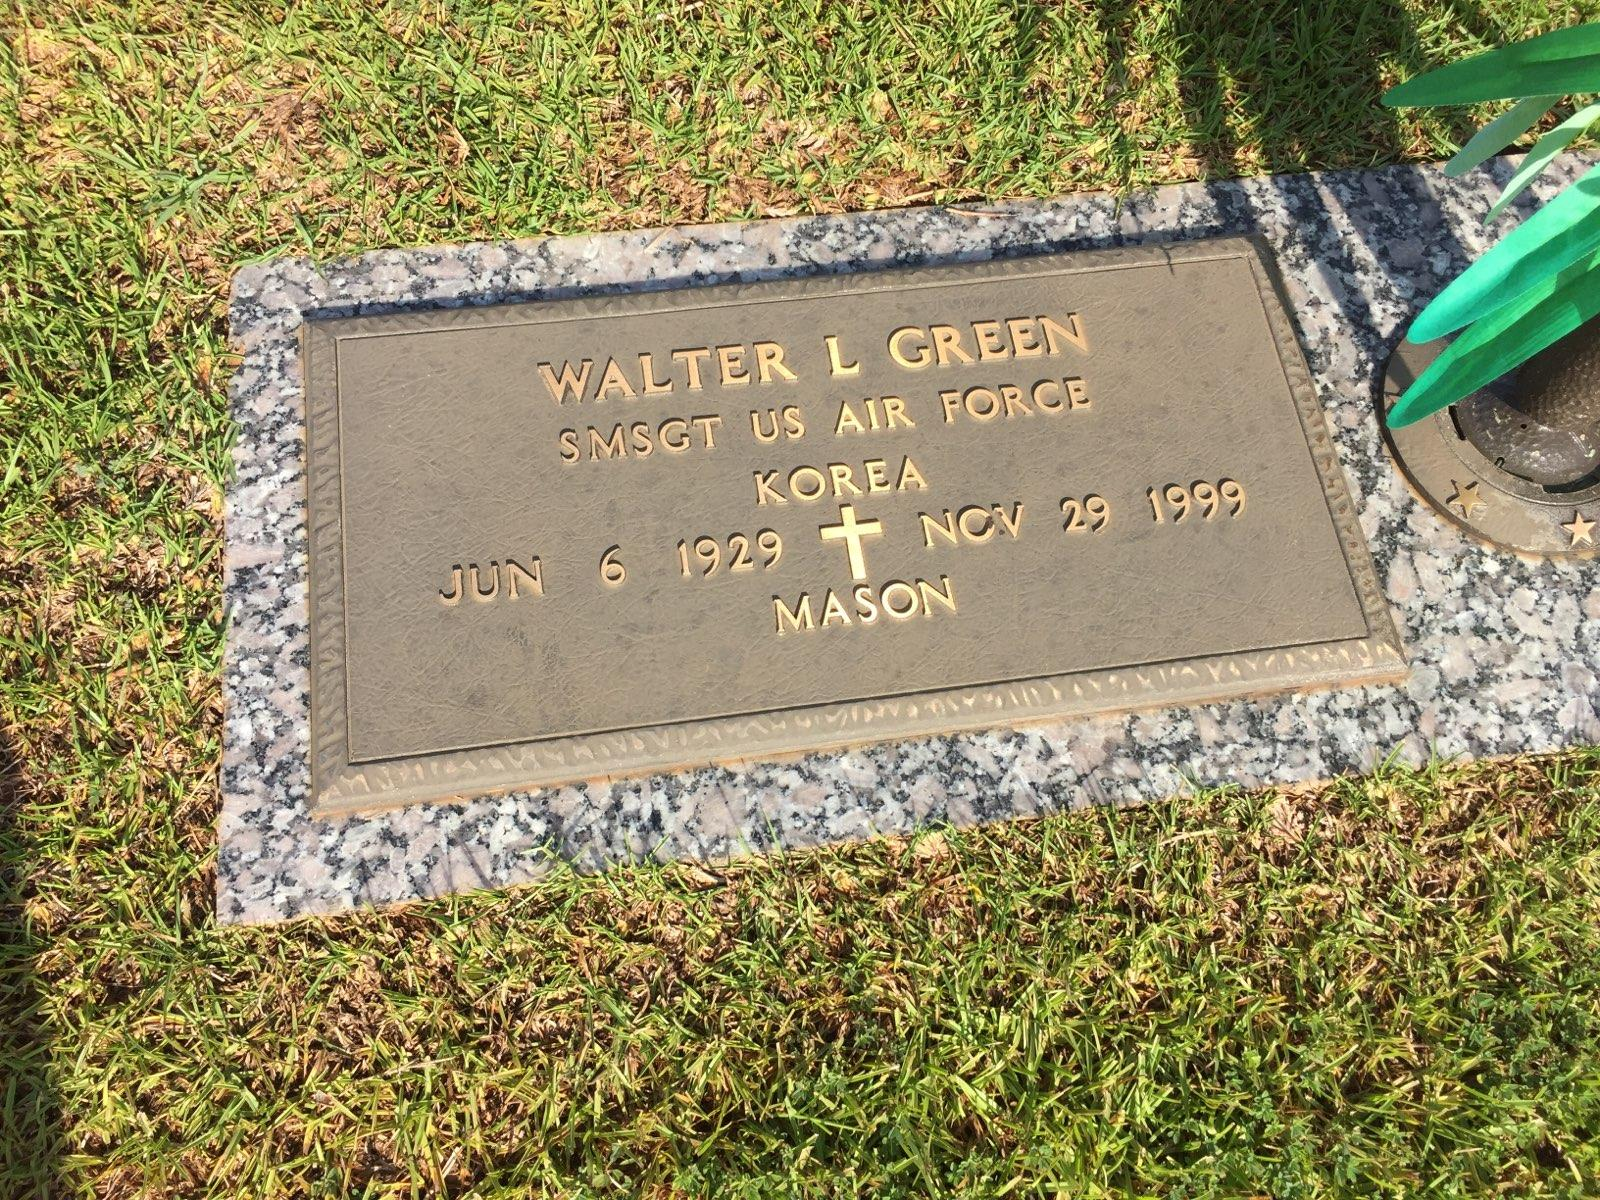flat: (176, 175, 1425, 916)
